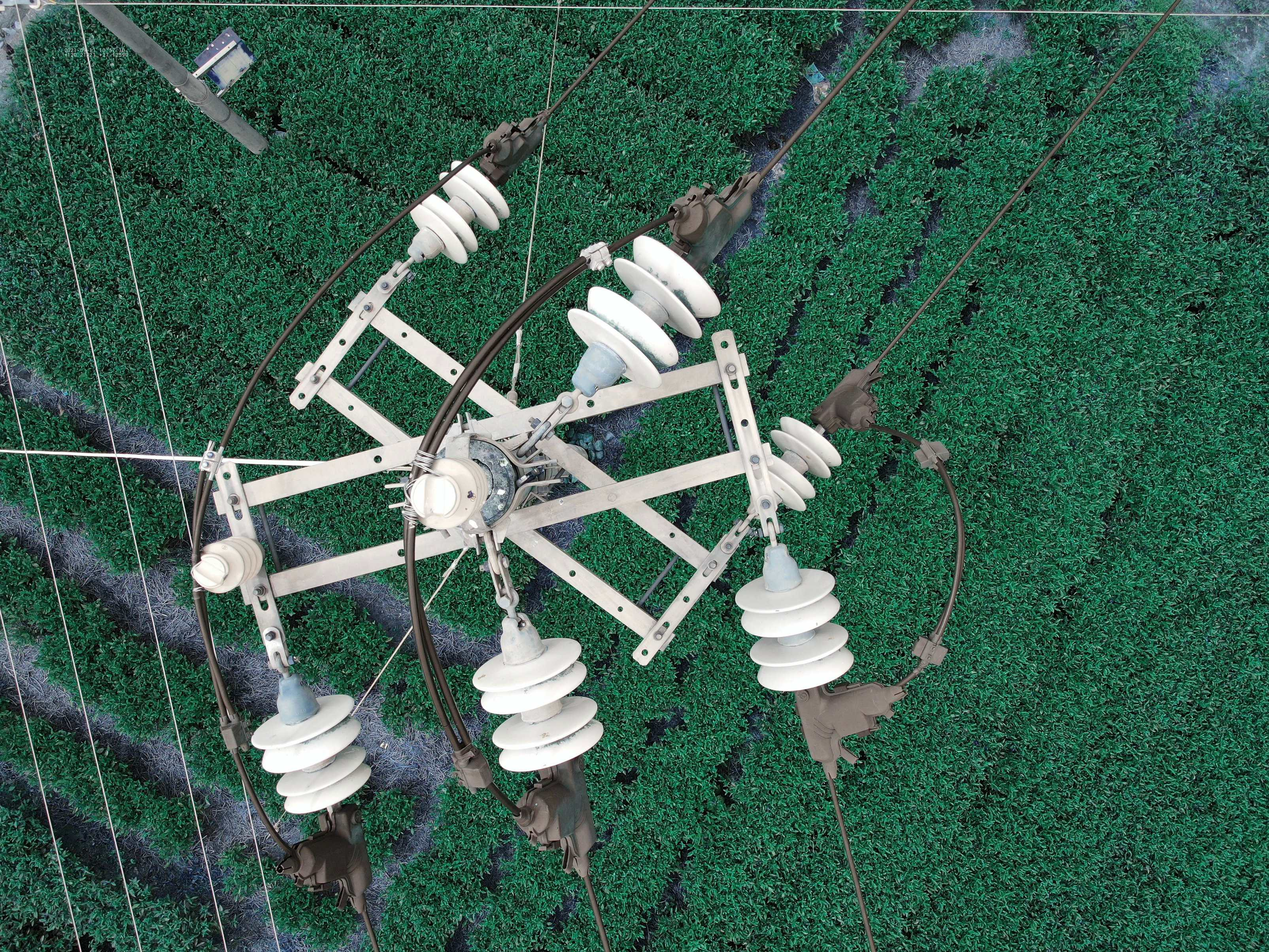severe_soiling_no_discharge_whole: (568, 231, 724, 395), (469, 612, 606, 772), (254, 673, 377, 816), (400, 155, 511, 268)
